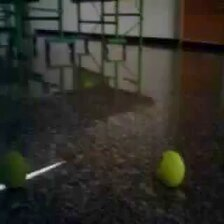tennis: (156, 150, 187, 189)
